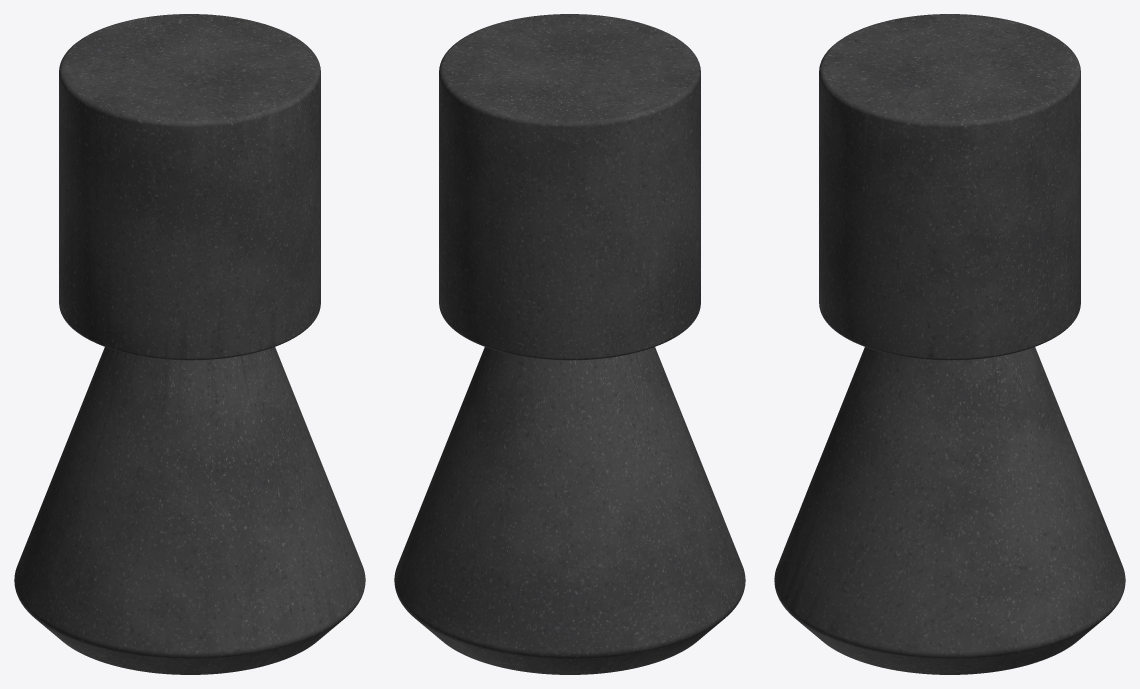
Rendered from knight-black-hd.glb.
3 views of the same model, side by side, from view 1: azimuth 30°, elevation 25°; view 2: azimuth 150°, elevation 25°; view 3: azimuth 270°, elevation 25° (orthographic).
Parts seen in each view (by area): view 1: 05_jezdec_cerna; view 2: 05_jezdec_cerna; view 3: 05_jezdec_cerna.
Part boxes in pixels (x1,y1,x2,y2): 05_jezdec_cerna: (14,14,365,674); 05_jezdec_cerna: (394,14,745,674); 05_jezdec_cerna: (774,14,1125,674).
Bounding box in the file's own units: 0.7666 × 1.32 × 0.7666.
1 material, 1 textured.
